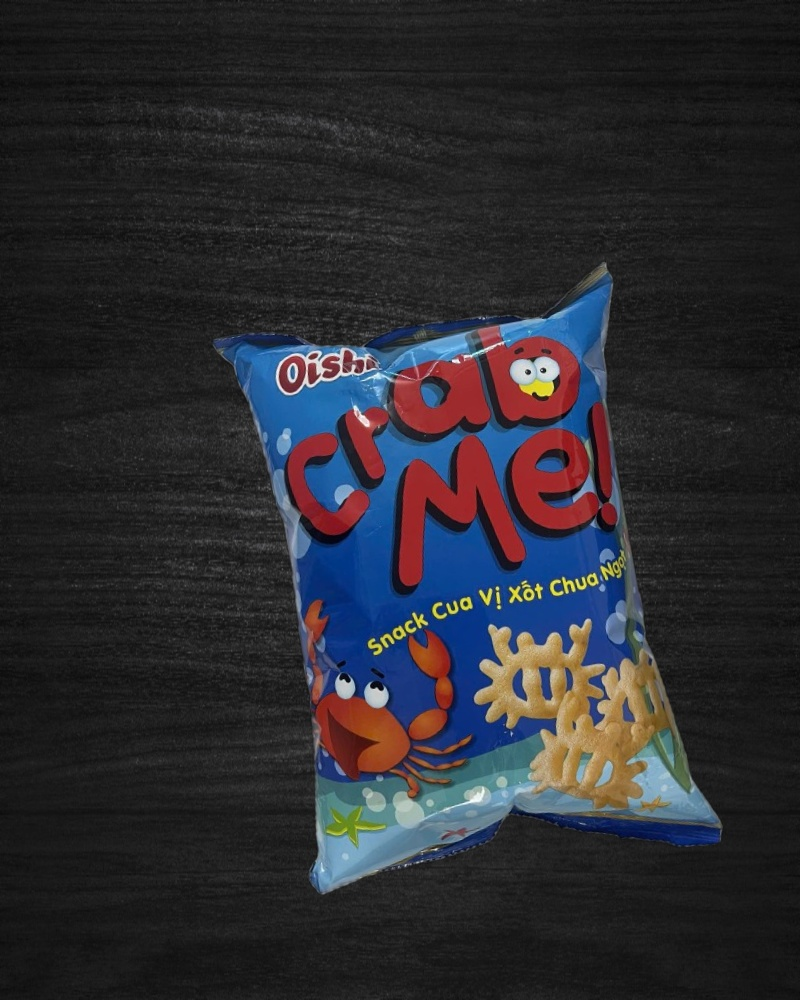Snack chay: (211, 259, 726, 917)
